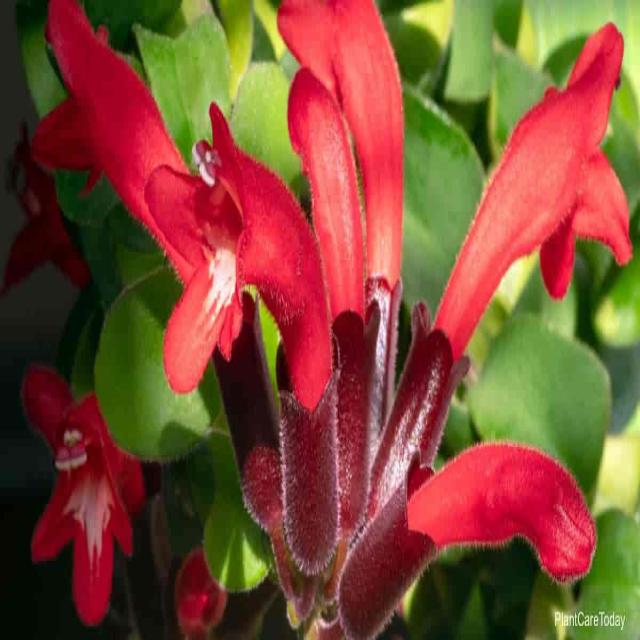Lipstick-Plant: (78, 35, 613, 579), (24, 330, 158, 639)
